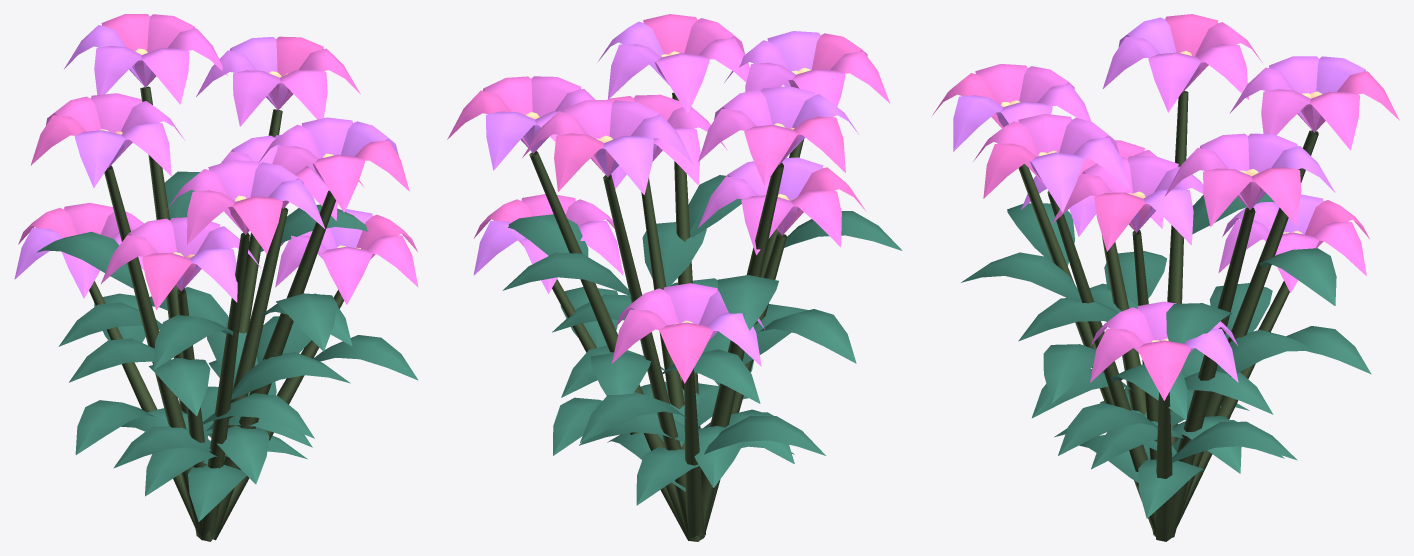
Rendered from Lantern Orchid.glb.
3 views of the same model, side by side, from view 1: azimuth 30°, elevation 25°; view 2: azimuth 150°, elevation 25°; view 3: azimuth 270°, elevation 25° (orthographic). The views are drawn at different scales.
Visible parts, largest first — view 1: Lantern Orchid; view 2: Lantern Orchid; view 3: Lantern Orchid.
Part boxes in pixels (x1,y1,x2,y2): Lantern Orchid: (14, 14, 418, 541); Lantern Orchid: (447, 14, 902, 541); Lantern Orchid: (932, 14, 1399, 541).
Bounding box in the file's own units: 1.23 × 1.43 × 1.3.
